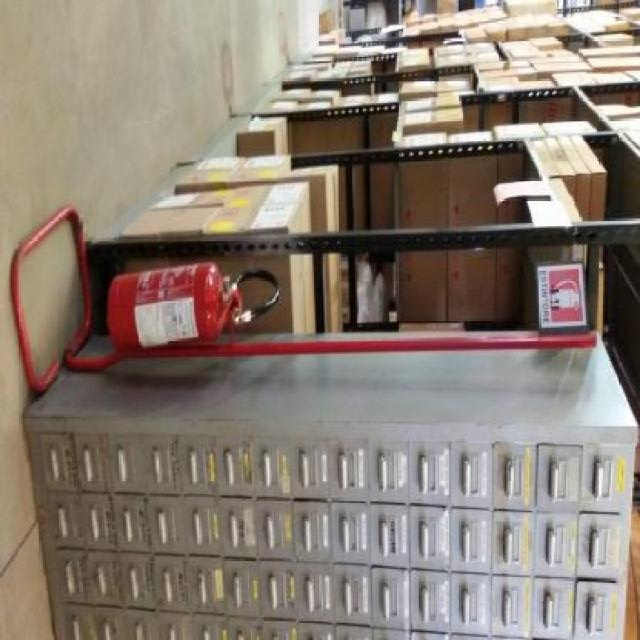fire extinguisher: (107, 261, 281, 354)
